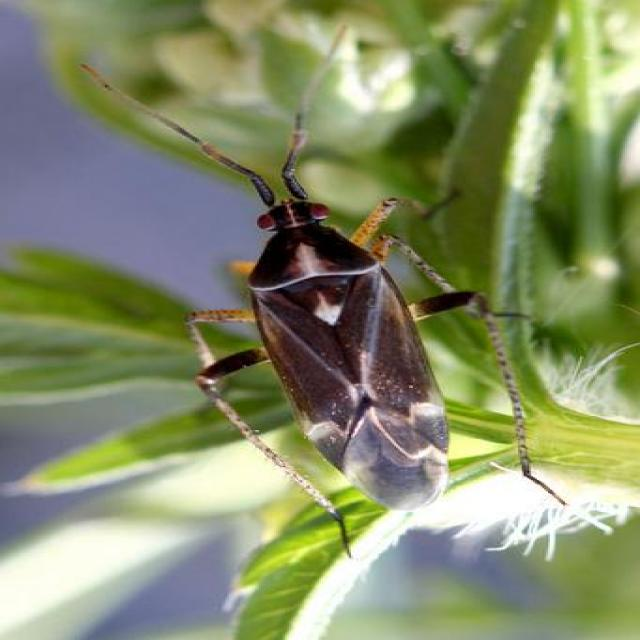Miridae-Adult-: (76, 25, 573, 552)
